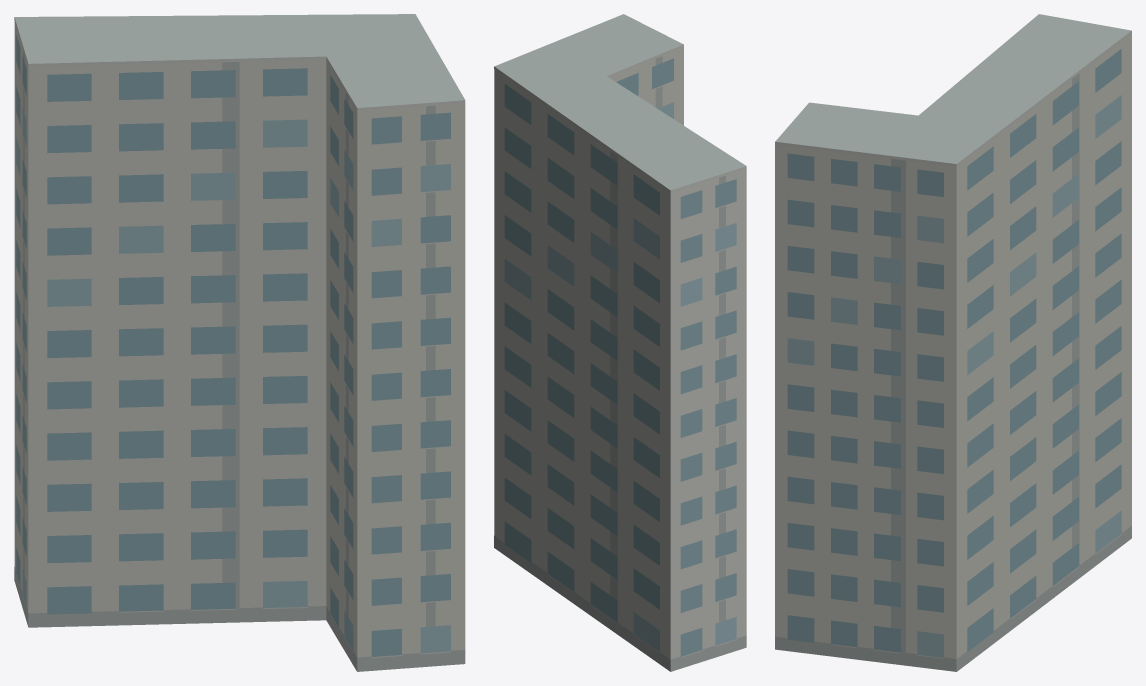
File: residential-264a46b8-eaaf-409e-9ade-ffededbbf04d.glb
3 views of the same model, side by side, from view 1: azimuth 30°, elevation 25°; view 2: azimuth 150°, elevation 25°; view 3: azimuth 270°, elevation 25° (orthographic). The views are drawn at different scales.
Visible parts, largest first — view 1: residential-264a46b8-eaaf-409e-9ade-ffededbbf04d.tmp; view 2: residential-264a46b8-eaaf-409e-9ade-ffededbbf04d.tmp; view 3: residential-264a46b8-eaaf-409e-9ade-ffededbbf04d.tmp.
Boxes of the visible parts, <box> form: residential-264a46b8-eaaf-409e-9ade-ffededbbf04d.tmp: <box>14,14,465,671</box>; residential-264a46b8-eaaf-409e-9ade-ffededbbf04d.tmp: <box>494,14,746,671</box>; residential-264a46b8-eaaf-409e-9ade-ffededbbf04d.tmp: <box>775,14,1131,671</box>.
Bounding box in the file's own units: 27.26 × 43 × 27.38.
